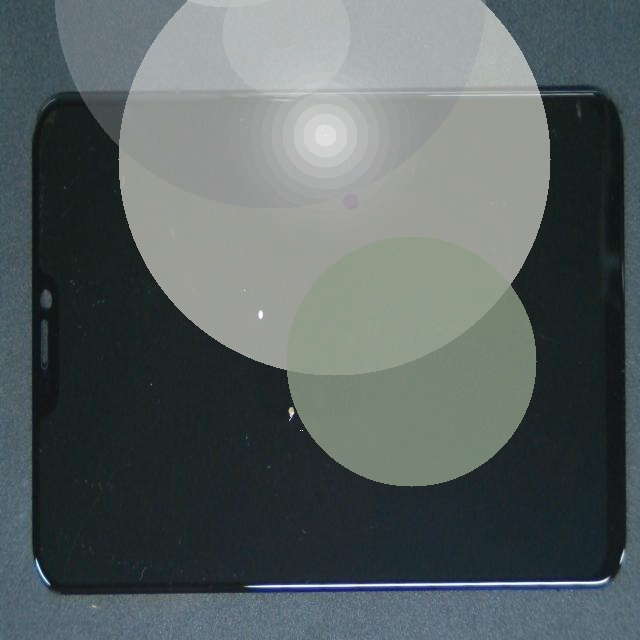stain: (163, 156, 438, 568), (114, 155, 373, 512)
